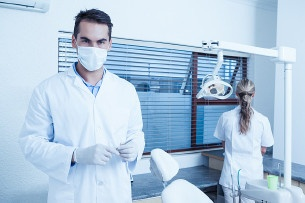Mask: (73, 34, 110, 71)
